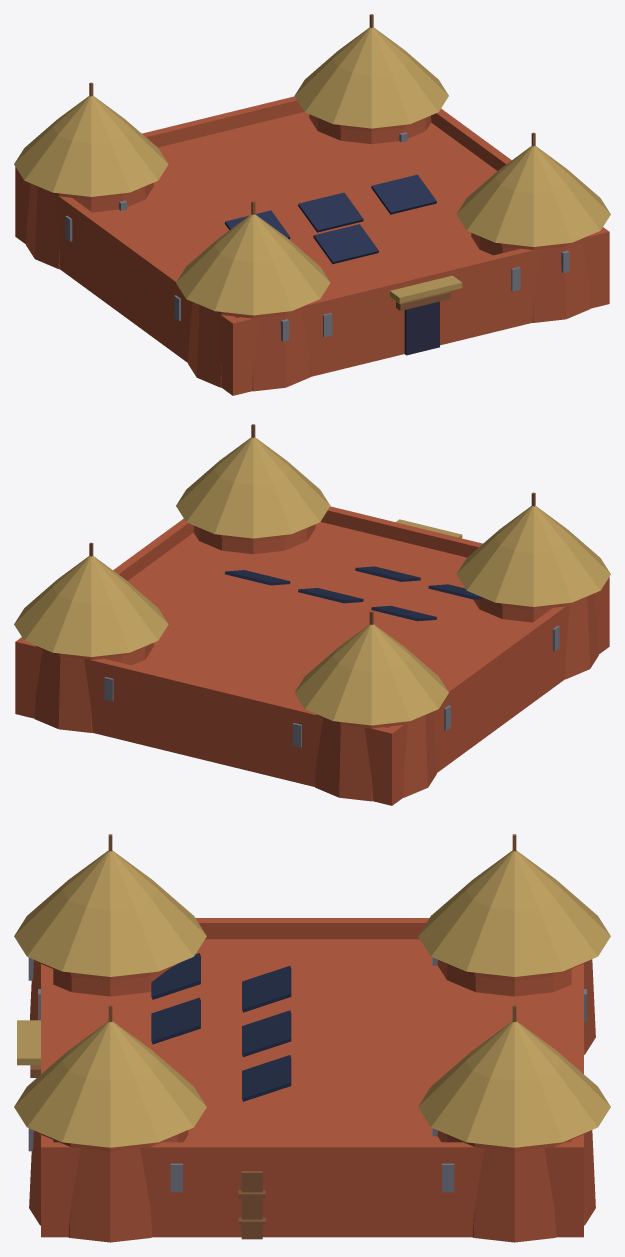
File: house-2x2-1f-tata-a-solar.glb
3 renders of one model, top to bottom at view 1: azimuth 30°, elevation 25°; view 2: azimuth 150°, elevation 25°; view 3: azimuth 270°, elevation 25°, orthographic. The views are drawn at different scales.
Visible parts, largest first — view 1: house-2x2-1f-tata-a-solar; view 2: house-2x2-1f-tata-a-solar; view 3: house-2x2-1f-tata-a-solar.
Part boxes in pixels (x1,y1,x2,y2): house-2x2-1f-tata-a-solar: (14,14,610,395); house-2x2-1f-tata-a-solar: (14,424,610,805); house-2x2-1f-tata-a-solar: (14,834,610,1242).
Size of the model in its own units: 1.98 by 0.74 by 1.98.
Materials: 1 (1 with a texture image).
